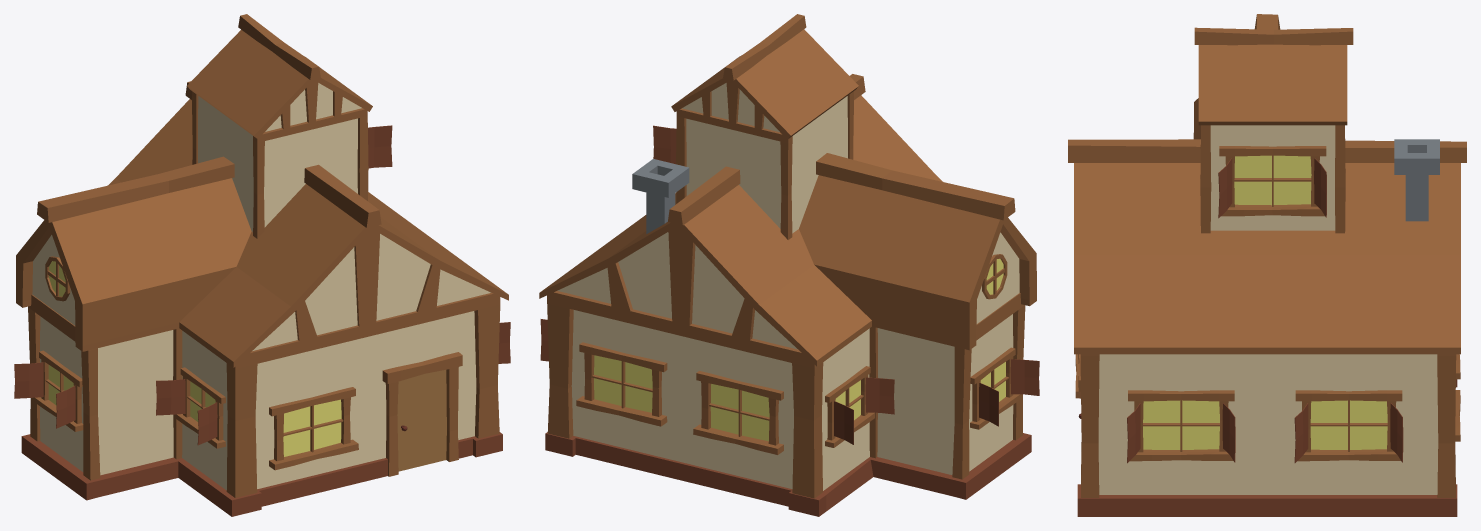
The model's file is House_07.fbx.
3 renders of one model, left to right at view 1: azimuth 30°, elevation 25°; view 2: azimuth 150°, elevation 25°; view 3: azimuth 270°, elevation 25°, orthographic. The views are drawn at different scales.
Parts seen in each view (by area): view 1: House_07; view 2: House_07; view 3: House_07.
Part boxes in pixels (x1,y1,x2,y2): House_07: [14, 14, 510, 516]; House_07: [539, 14, 1039, 516]; House_07: [1068, 14, 1466, 516].
Size of the model in its own units: 953 by 831 by 723.
